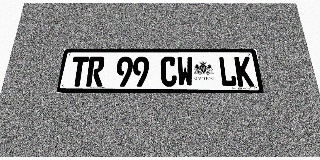9: (115, 57, 133, 87), (132, 57, 149, 87)
C: (161, 57, 177, 87)
K: (234, 57, 254, 87)
L: (218, 57, 237, 87)
R: (86, 57, 105, 87)
T: (69, 57, 89, 87)
W: (177, 57, 194, 87)
